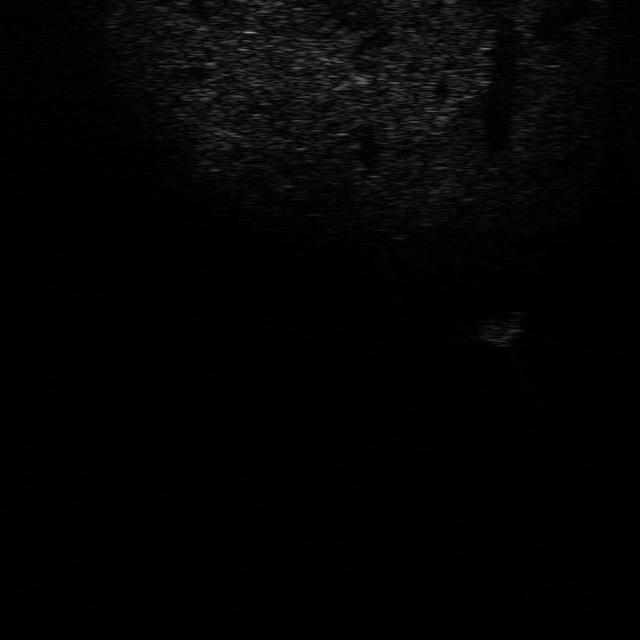cube: (477, 308, 525, 351)
